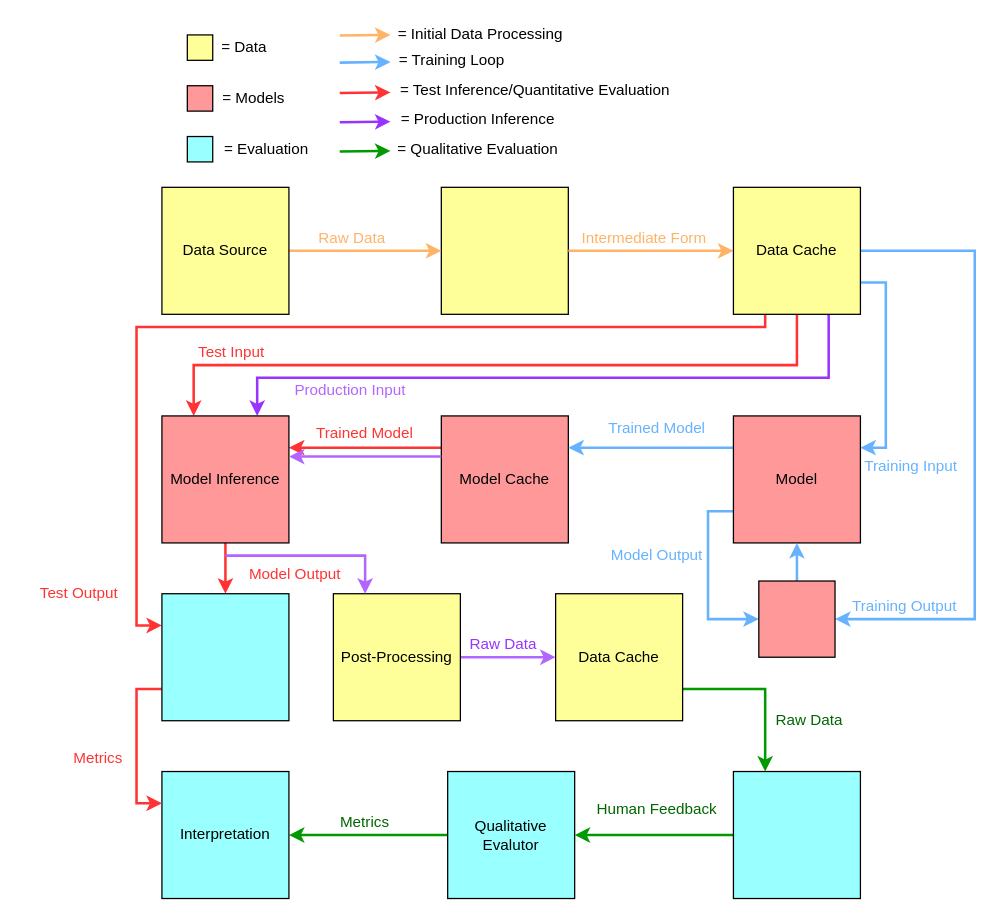
This 1007x921 diagram has some shape labels left out. Each missing label, with the centre of its shape:
Loss function: [796,618]
Pre-Processing: [504,250]
Production System: [796,834]
Quantitative Evaluator: [225,656]
